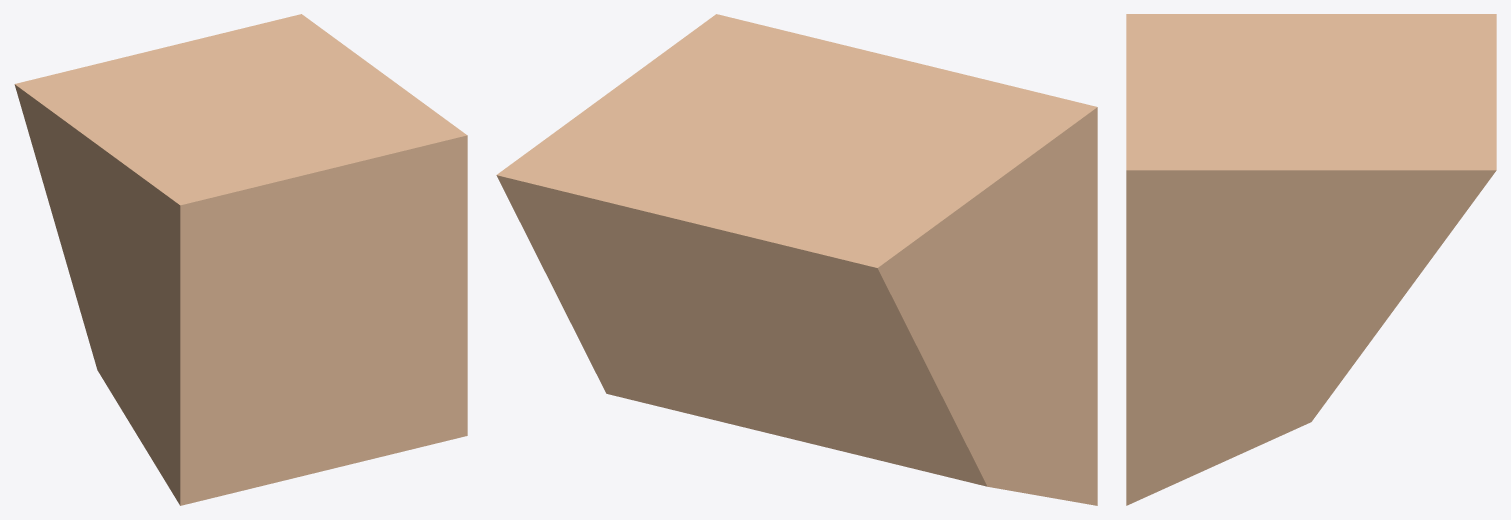
Rendered from dirtCliff.fbx.
3 renders of one model, left to right at view 1: azimuth 30°, elevation 25°; view 2: azimuth 150°, elevation 25°; view 3: azimuth 270°, elevation 25°, orthographic. The views are drawn at different scales.
Parts seen in each view (by area): view 1: blockCliff; view 2: blockCliff; view 3: blockCliff.
Part boxes in pixels (box(x1,y1,x2,y2)): blockCliff: box(14, 14, 467, 505); blockCliff: box(496, 14, 1097, 505); blockCliff: box(1126, 14, 1496, 505).
Size of the model in its own units: 1000 by 1000 by 1000.
